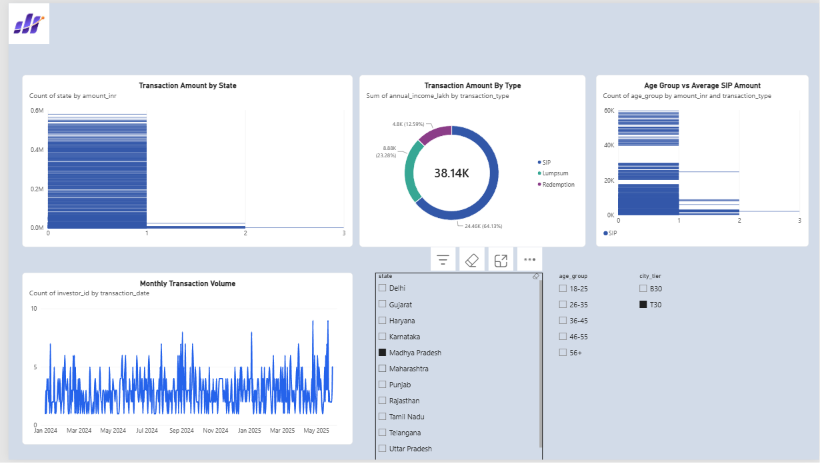

The dashboard page shown, as its layout file describes it:
{"tool":"powerbi","page":{"name":"Investor Analytics","canvas":[1920,1080],"ordinal":2},"visuals":[{"type":"barChart","title":"Transaction Amount by State","fields":{"Category":["investor_transaction.amount_inr"],"Y":["CountNonNull(investor_transaction.state)"]},"box":[31.5,169.6,782.2,406.7],"z":0},{"type":"donutChart","title":"Transaction Amount By Type ","fields":{"Category":["investor_transaction.transaction_type"],"Y":["Sum(investor_transaction.annual_income_lakh)"]},"box":[829.3,169.6,535.6,406.7],"z":1000},{"type":"barChart","title":"Age Group vs Average SIP Amount","fields":{"Category":["investor_transaction.amount_inr"],"Series":["investor_transaction.transaction_type"],"Y":["CountNonNull(investor_transaction.age_group)"]},"box":[1389.3,169.6,503,406],"z":2000},{"type":"lineChart","title":"Monthly Transaction Volume","fields":{"Category":["investor_transaction.transaction_date.Variation.Date Hierarchy.Year"],"Y":["Count(investor_transaction.investor_id)"]},"box":[31.5,638.5,782.2,406.7],"z":3000},{"type":"slicer","fields":{"Values":["investor_transaction.state"]},"box":[868.2,638.1,396.7,443.3],"z":4000},{"type":"slicer","fields":{"Values":["investor_transaction.age_group"]},"box":[1296,638.5,188.9,222.2],"z":5000},{"type":"slicer","fields":{"Values":["investor_transaction.city_tier"]},"box":[1484.9,638.5,224.4,222.2],"z":6000},{"type":"image","box":[0,0,96.7,96.7],"z":6001}]}

Visuals, with their boxes in screenshot pixels (x1, y1, x2, y2), scaled from the page's 1920x1080 canvas onto the 820x463 screenshot:
"Transaction Amount by State" barChart: 13/73/348/247
"Transaction Amount By Type " donutChart: 354/73/583/247
"Age Group vs Average SIP Amount" barChart: 593/73/808/247
"Monthly Transaction Volume" lineChart: 13/274/348/448
slicer - investor_transaction.state: 371/274/540/462
slicer - investor_transaction.age_group: 554/274/634/369
slicer - investor_transaction.city_tier: 634/274/730/369
image: 0/0/41/41
